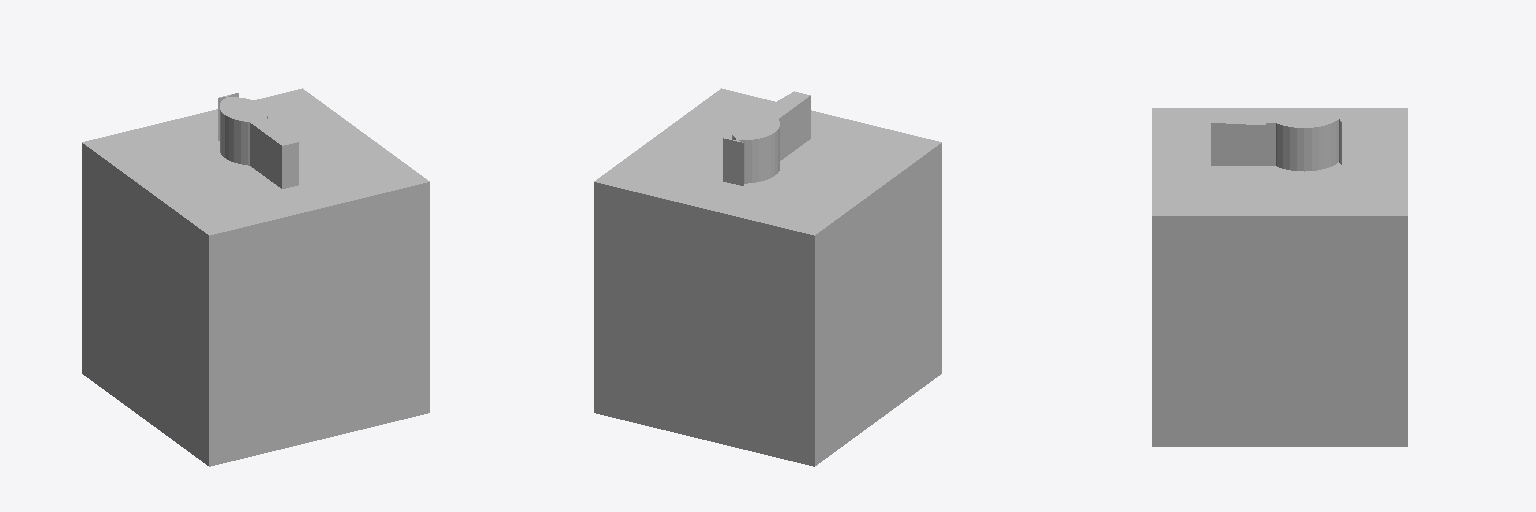
Rendered from Key_cube_cap_preprocessed.obj.
3 views of the same model, side by side, from view 1: azimuth 30°, elevation 25°; view 2: azimuth 150°, elevation 25°; view 3: azimuth 270°, elevation 25° (orthographic).
Size of the model in its own units: 0.08 by 0.095 by 0.08.